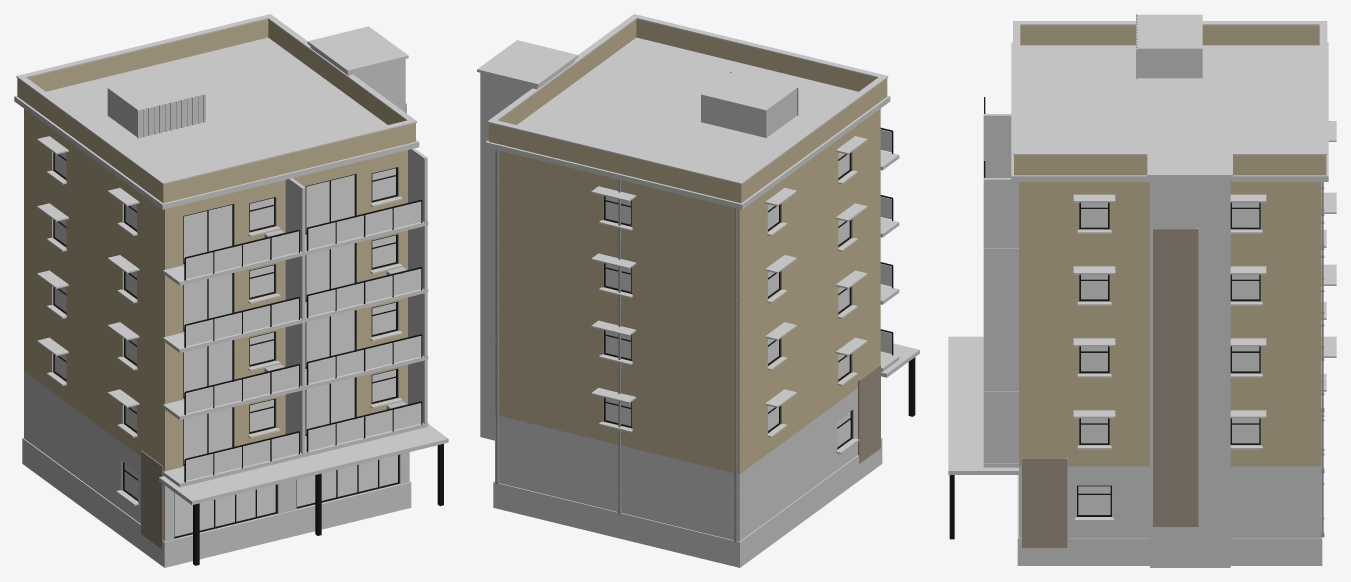
Rendered from apartment_12x12_5.glb.
3 views of the same model, side by side, from view 1: azimuth 30°, elevation 25°; view 2: azimuth 150°, elevation 25°; view 3: azimuth 270°, elevation 25° (orthographic). The views are drawn at different scales.
Parts seen in each view (by area): view 1: apartment_12x12_5; view 2: apartment_12x12_5; view 3: apartment_12x12_5.
Boxes of the visible parts, x1,y1,x2,y2 form: apartment_12x12_5: [14, 14, 448, 567]; apartment_12x12_5: [477, 14, 919, 567]; apartment_12x12_5: [948, 14, 1336, 567].
Bounding box in the file's own units: 15.53 × 19.2 × 15.41.
